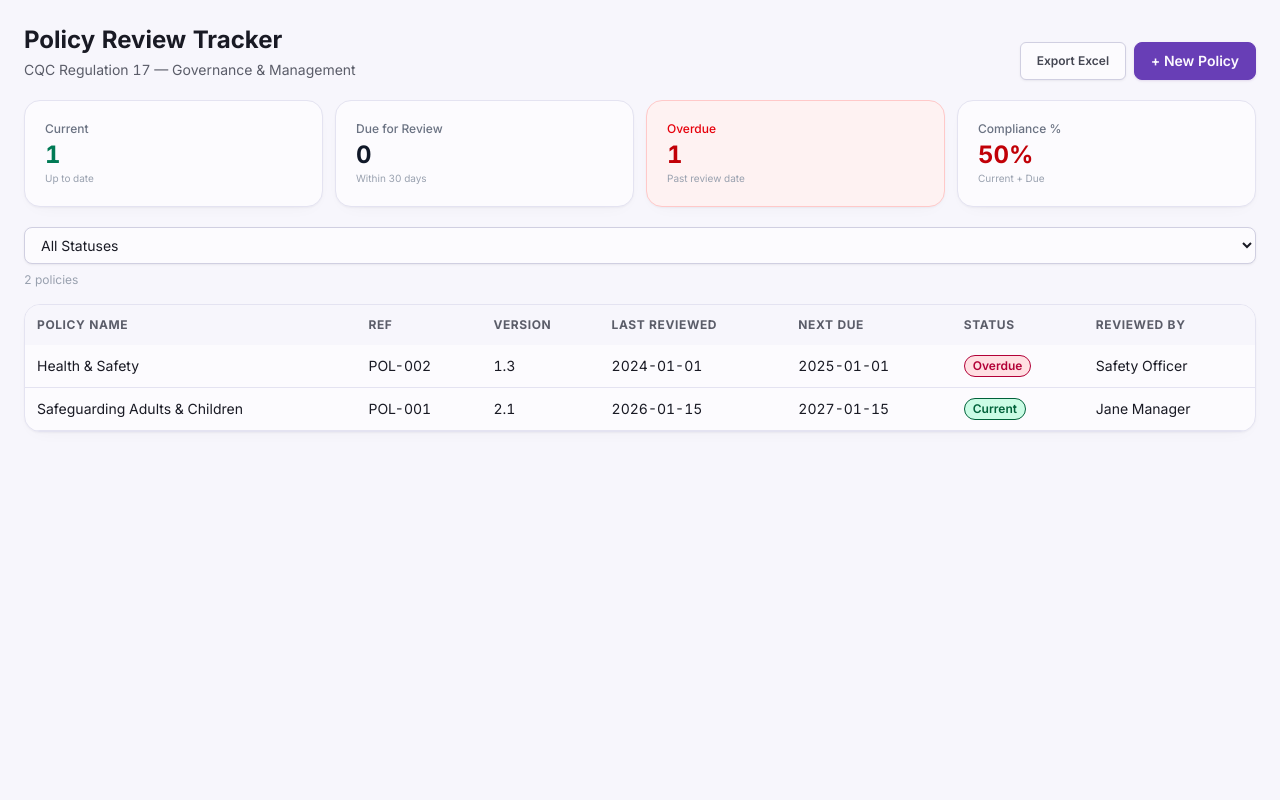
Scenario: PolicyReviewTracker › uses labelled form controls and enables save only after policy name is entered
Step 1. Click the button "+ New Policy" → {"x": 1195, "y": 61}, box [1134,42,1256,80]
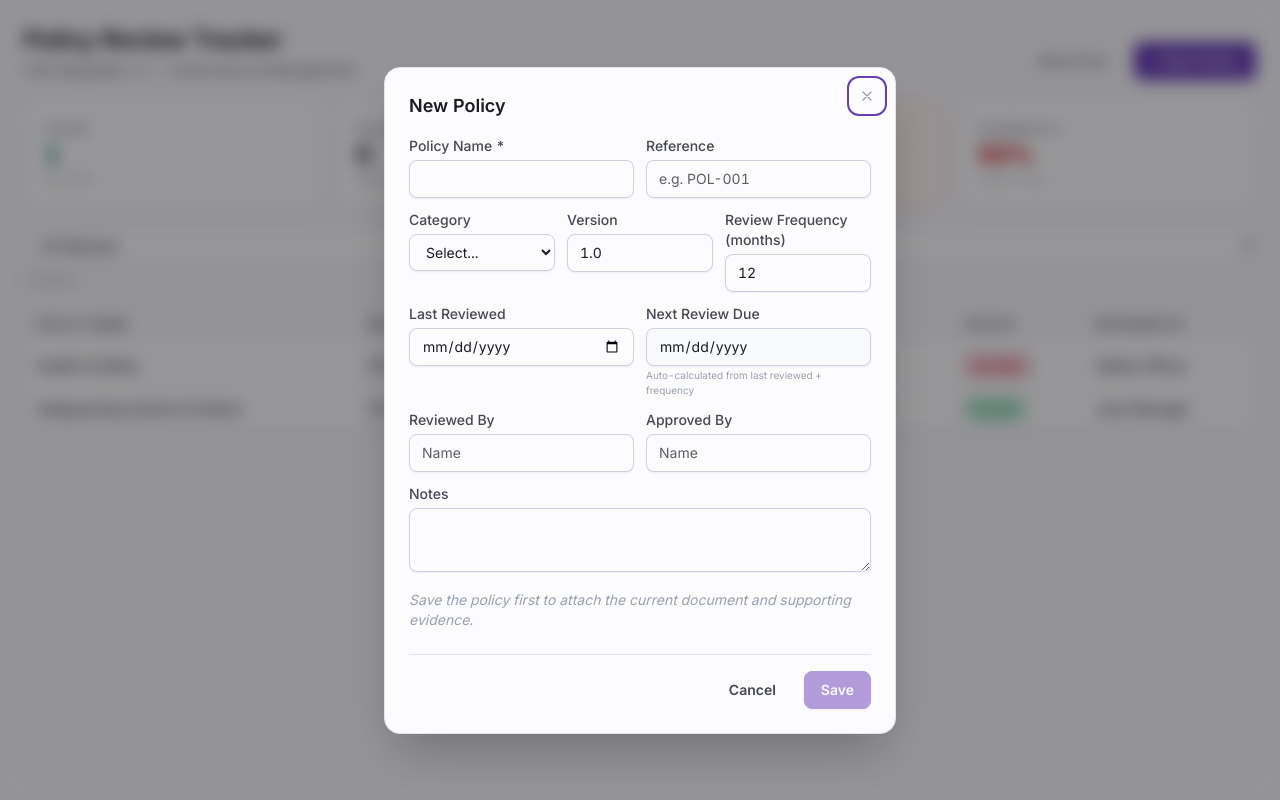
Expected: the button "Save" is disabled, [804,670,871,708]
Step 2. Type "Medication Policy" into the field labelled "Policy Name *" → {"x": 522, "y": 178}, box [409,160,634,198]
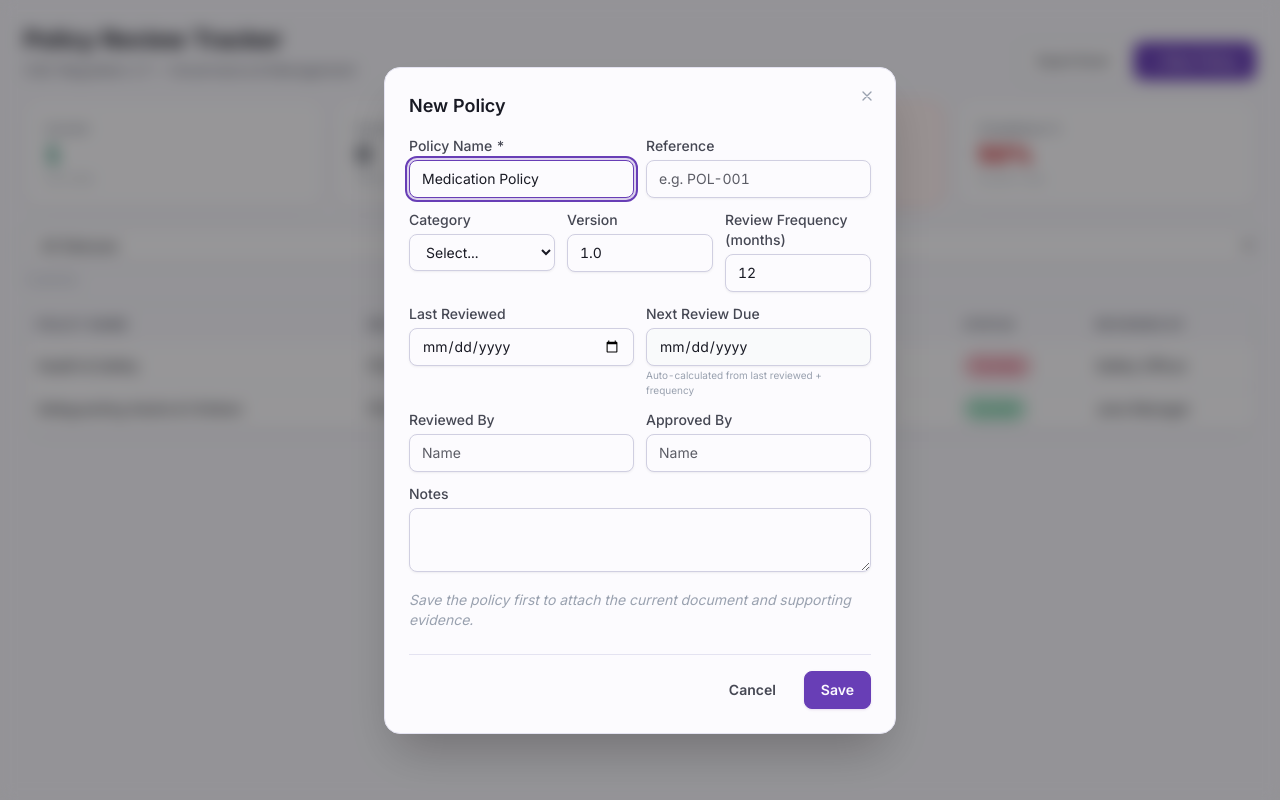
Expected: the field labelled "Reference" is shown, [646,160,871,198]
Expected: the number field labelled "Review Frequency (months)" is shown, [725,254,871,292]
Expected: the button "Save" is enabled, [804,670,871,708]
